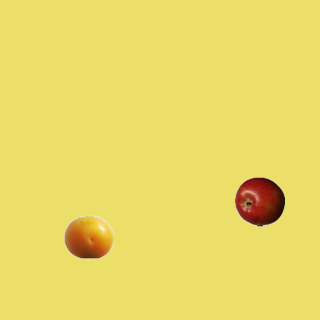Apple Braeburn: (234, 176, 284, 226)
Cherry Wax Yellow: (63, 211, 113, 261)
